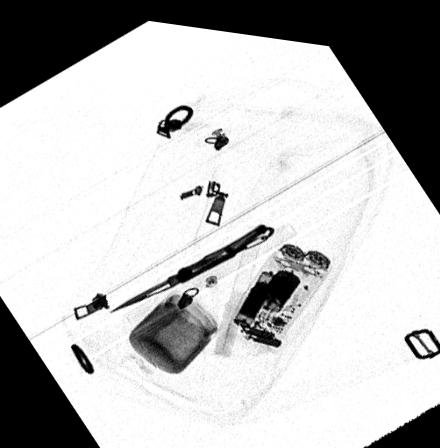Knife: (108, 215, 275, 309)
